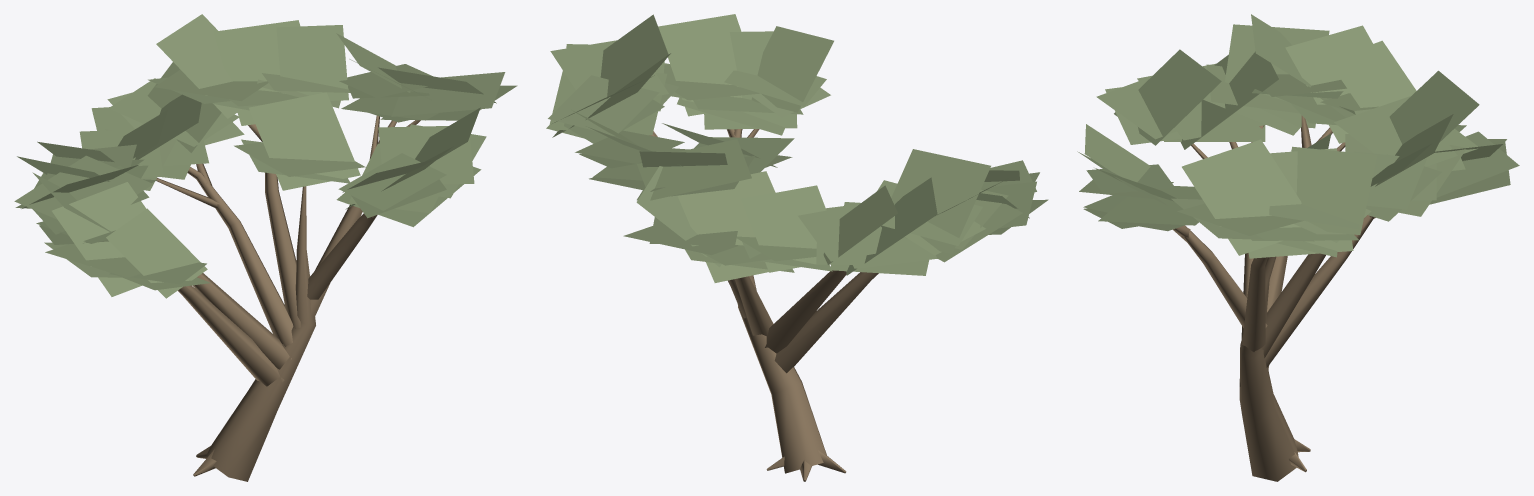
The model's file is acacia-2_lod1.glb.
The picture shows the model from 3 angles, left to right: view 1: azimuth 30°, elevation 25°; view 2: azimuth 150°, elevation 25°; view 3: azimuth 270°, elevation 25°; orthographic projection. The views are drawn at different scales.
Parts seen in each view (by area): view 1: 平顶金合欢 · 斜干错层冠 LOD1; view 2: 平顶金合欢 · 斜干错层冠 LOD1; view 3: 平顶金合欢 · 斜干错层冠 LOD1.
Boxes of the visible parts, x1,y1,x2,y2 form: 平顶金合欢 · 斜干错层冠 LOD1: (14, 14, 517, 481); 平顶金合欢 · 斜干错层冠 LOD1: (546, 14, 1048, 481); 平顶金合欢 · 斜干错层冠 LOD1: (1077, 14, 1519, 481).
Bounding box in the file's own units: 9 × 7 × 6.9.
